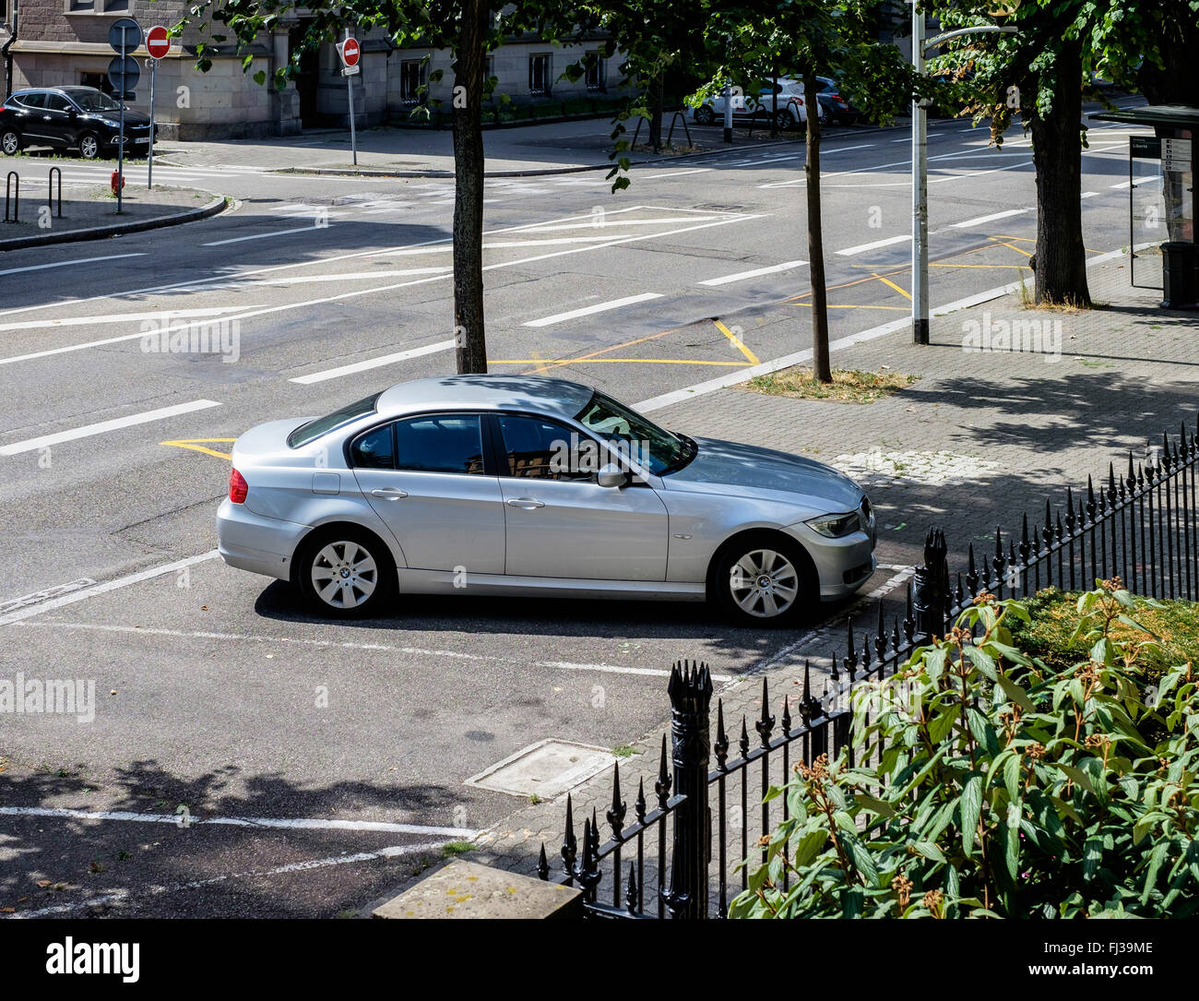Car: (212, 362, 888, 636)
